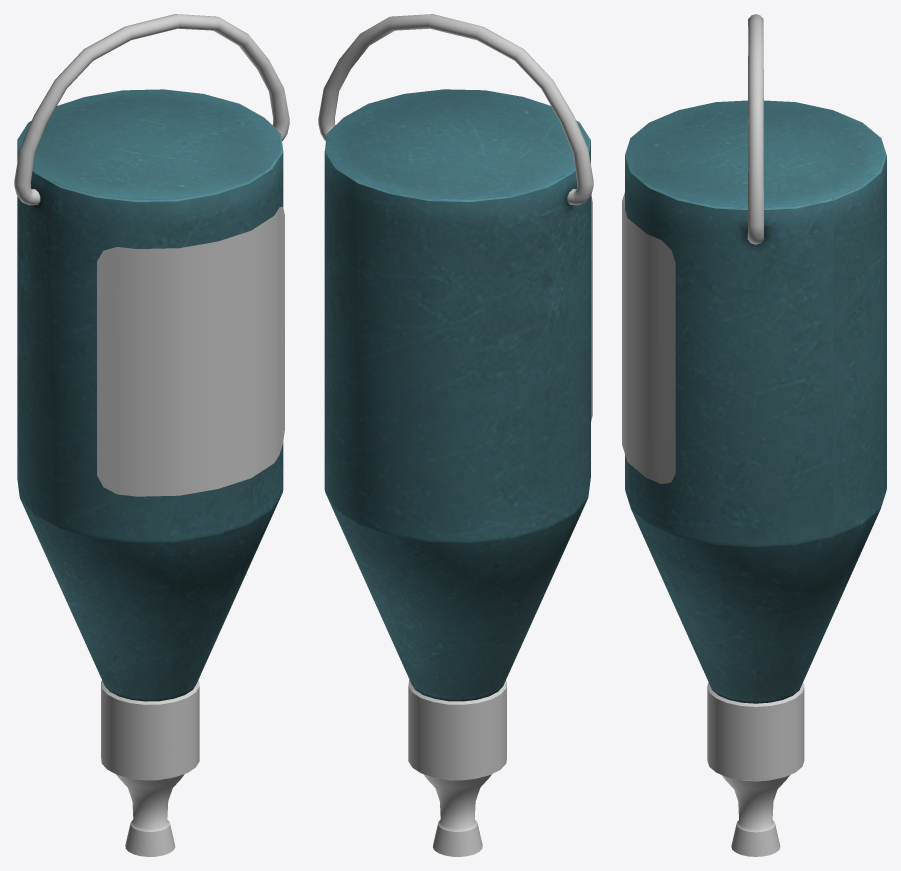
Rendered from dripbag_bottle.DAE.
The picture shows the model from 3 angles, left to right: view 1: azimuth 30°, elevation 25°; view 2: azimuth 150°, elevation 25°; view 3: azimuth 270°, elevation 25°; orthographic projection.
Visible parts, largest first — view 1: bottle, cap_n_label, handle; view 2: bottle, cap_n_label, handle; view 3: bottle, cap_n_label, handle.
Part boxes in pixels (box(x1,y1,x2,y2)): bottle: box(17, 89, 283, 701); cap_n_label: box(97, 207, 284, 856); handle: box(14, 14, 289, 205); bottle: box(324, 89, 590, 701); cap_n_label: box(408, 195, 592, 856); handle: box(318, 14, 593, 205); bottle: box(625, 100, 886, 703); cap_n_label: box(622, 192, 804, 856); handle: box(747, 14, 763, 244).
Size of the model in its own units: 0.1726 by 0.499 by 0.1471.
